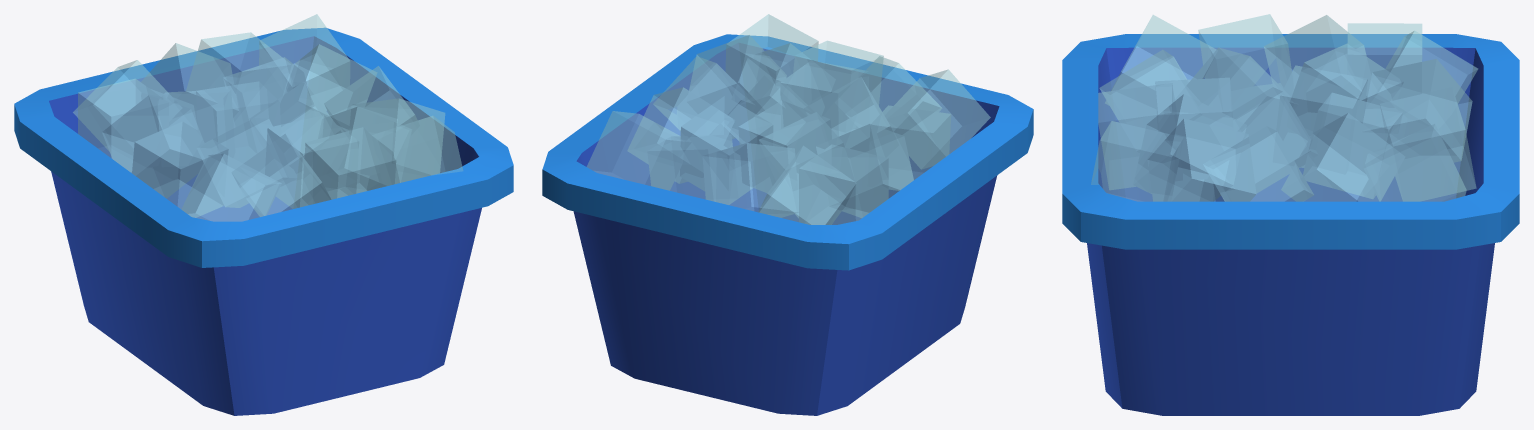
Rendered from Stock_IceTray_geo.fbx.
3 renders of one model, left to right at view 1: azimuth 30°, elevation 25°; view 2: azimuth 150°, elevation 25°; view 3: azimuth 270°, elevation 25°, orthographic. The views are drawn at different scales.
Visible parts, largest first — view 1: Stock_IceTray_geo; view 2: Stock_IceTray_geo; view 3: Stock_IceTray_geo.
Boxes of the visible parts, <box> form: Stock_IceTray_geo: <box>14,14,513,415</box>; Stock_IceTray_geo: <box>542,14,1033,415</box>; Stock_IceTray_geo: <box>1062,14,1519,415</box>.
Size of the model in its own units: 0.4908 by 0.5112 by 0.349.
